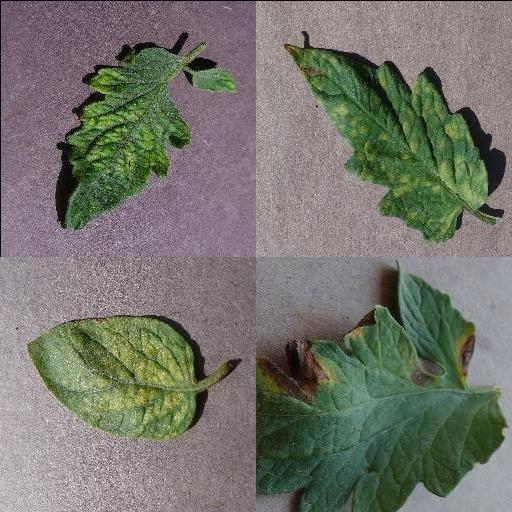Early Blight: (256, 260, 507, 512)
Leaf Mold: (283, 41, 485, 241)
Mosaic Virus: (62, 46, 191, 232), (189, 66, 239, 95)
Spider Mites: (26, 314, 196, 438)
